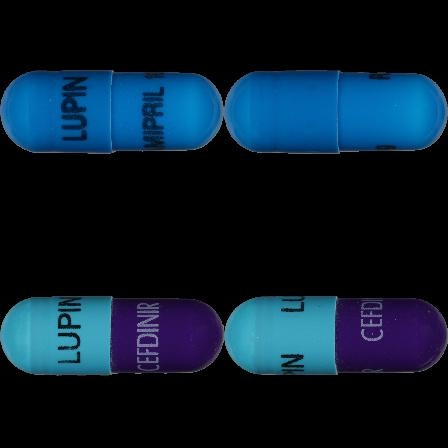68180-591: (0, 0, 224, 224)
